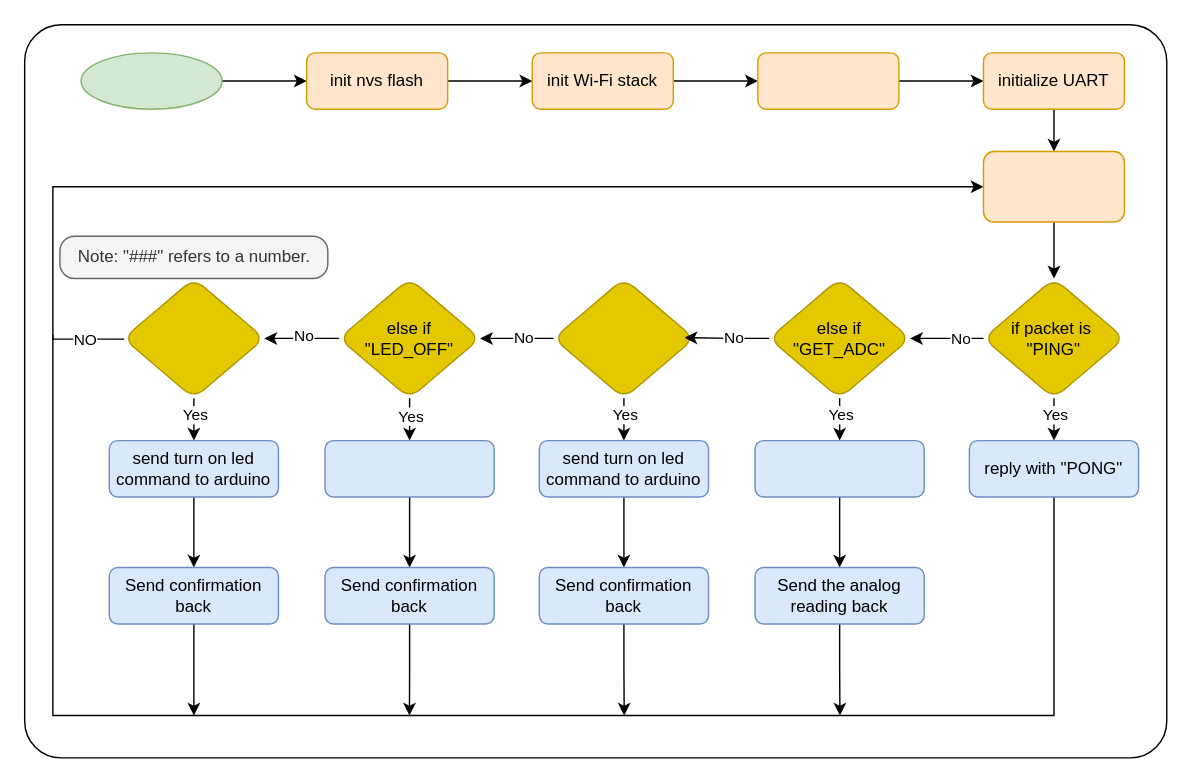
This 1191x783 diagram has some shape labels left out. Here are the shapes that lost their labels. From the top down, the box of each, then its label:
(80, 51, 222, 109): Start
(756, 51, 899, 109): connect to Wi-Fi
(982, 150, 1124, 222): Start listening for TCP packets
(122, 277, 264, 398): else if "M###S"
(552, 277, 694, 398): else if "LED_ON"
(324, 439, 494, 497): send turn off led command to arduino
(754, 439, 924, 497): Get analog reading from arduino
